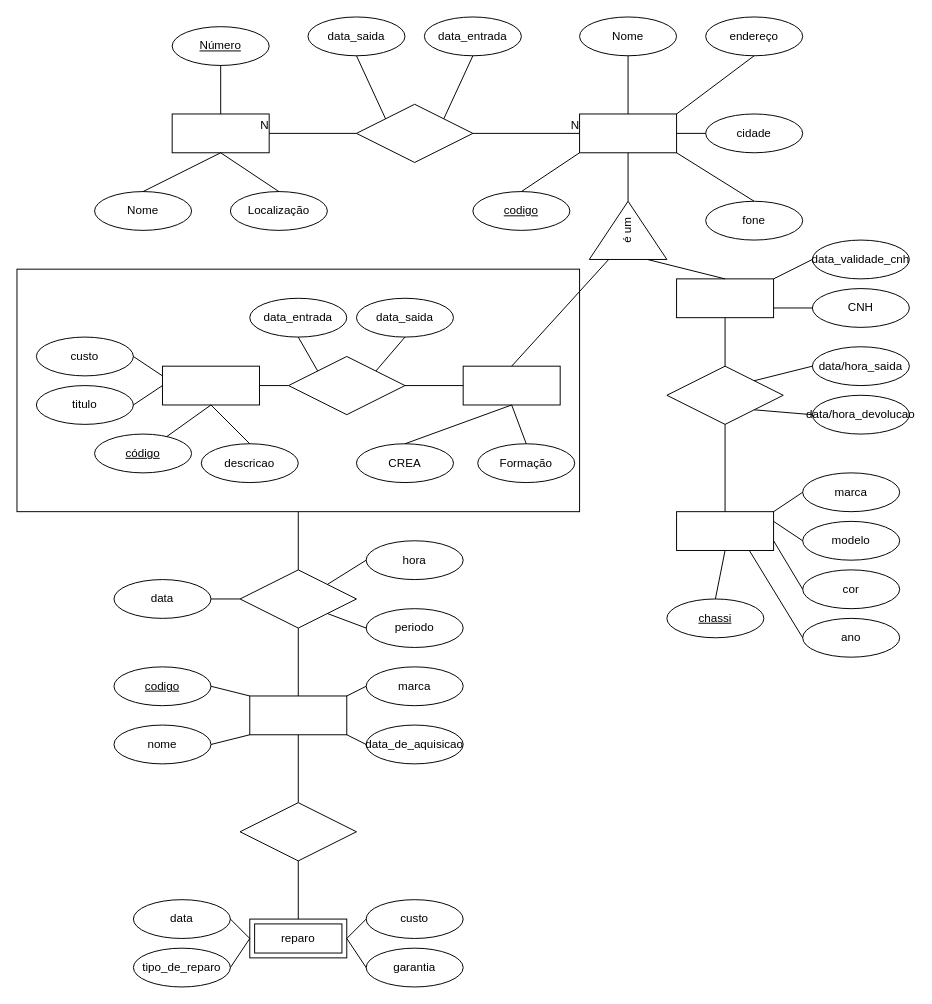
This 932x1004 diagram has some shape labels left out. The shapes that lost their labels are listed below. From the top down, each one's box as (x1, y1, x2, y2) in pixels, then its label:
(171, 113, 269, 153): Departamento
(356, 103, 473, 162): aloca
(579, 113, 677, 153): Funcionário
(676, 278, 774, 318): Motorista
(162, 365, 259, 405): Projeto
(288, 356, 405, 415): trabalha
(462, 365, 560, 405): Engenheiro
(666, 365, 783, 424): Dirige
(676, 511, 774, 550): Carro
(239, 569, 356, 628): Reserva
(249, 695, 347, 735): Equipamento
(239, 802, 356, 861): Historico
